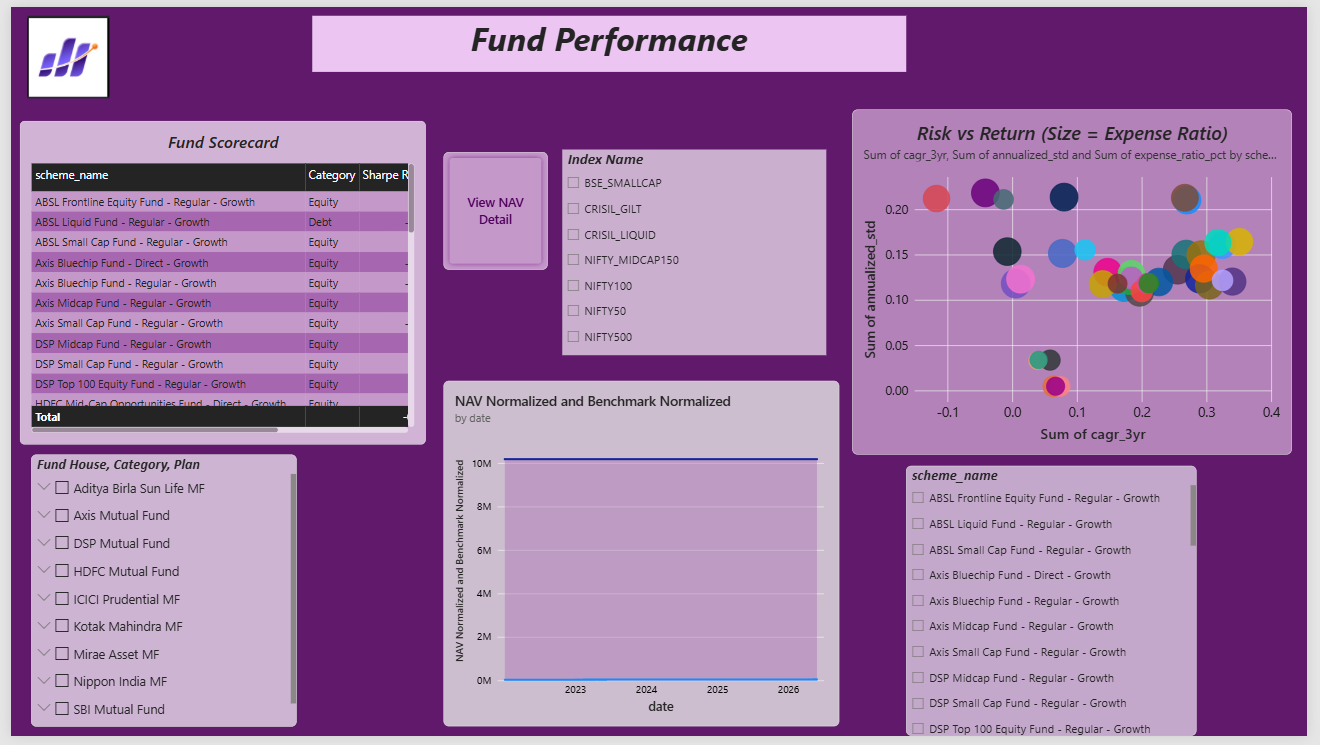

This screenshot's page, from the dashboard's own definition file:
{"tool":"powerbi","page":{"name":"Fund Performance","canvas":[1920,1080],"ordinal":1},"visuals":[{"type":"scatterChart","title":"Risk vs Return (Size = Expense Ratio)","fields":{"Series":["fund_scorecard.scheme_name"],"Size":["Sum(fund_scorecard.expense_ratio_pct)"],"X":["Sum(fund_scorecard.cagr_3yr)"],"Y":["Sum(fund_scorecard.annualized_std)"]},"box":[1245.8,152.5,650.9,510.9],"z":1000},{"type":"slicer","fields":{"Values":["01_fund_master.fund_house","01_fund_master.category","01_fund_master.plan"]},"box":[30.5,662.7,393.2,403.4],"z":2000},{"type":"slicer","fields":{"Values":["10_benchmark_indices.index_name"]},"box":[816.9,211.9,391.5,305.1],"z":3000},{"type":"lineChart","fields":{"Category":["02_nav_history.date"],"Y":["02_nav_history.NAV Normalized","10_benchmark_indices.Benchmark Normalized"]},"box":[640.7,554.2,586.4,511.9],"z":4000},{"type":"slicer","fields":{"Values":["01_fund_master.scheme_name"]},"box":[1325.4,679.7,430.5,400],"z":5000},{"type":"tableEx","title":"Fund Scorecard","fields":{"Values":["fund_scorecard.scheme_name","fund_scorecard.category","Sum(fund_scorecard.sharpe_ratio)","Sum(fund_scorecard.max_drawdown_pct)","Sum(fund_scorecard.alpha)","Sum(fund_scorecard.cagr_3yr)"]},"box":[13.6,167.8,601.7,479.7],"z":5001},{"type":"actionButton","box":[640.7,215.3,154.2,174.6],"z":5002},{"type":"image","box":[13.6,13.6,144.1,122],"z":5003},{"type":"textbox","box":[445.8,13.6,879.7,83.1],"z":5004}]}

Visuals, with their boxes in screenshot pixels (x1, y1, x2, y2), scaled from the page's 1920x1080 canvas onto the 1320x745 screenshot:
"Risk vs Return (Size = Expense Ratio)" scatterChart: Rect(856, 105, 1304, 458)
slicer - 01_fund_master.fund_house x 01_fund_master.category: Rect(21, 457, 291, 735)
slicer - 10_benchmark_indices.index_name: Rect(562, 146, 831, 357)
lineChart - 02_nav_history.date x 02_nav_history.NAV Normalized: Rect(440, 382, 844, 735)
slicer - 01_fund_master.scheme_name: Rect(911, 469, 1207, 744)
"Fund Scorecard" tableEx: Rect(9, 116, 423, 447)
actionButton: Rect(440, 149, 546, 269)
image: Rect(9, 9, 108, 94)
textbox: Rect(306, 9, 911, 67)
